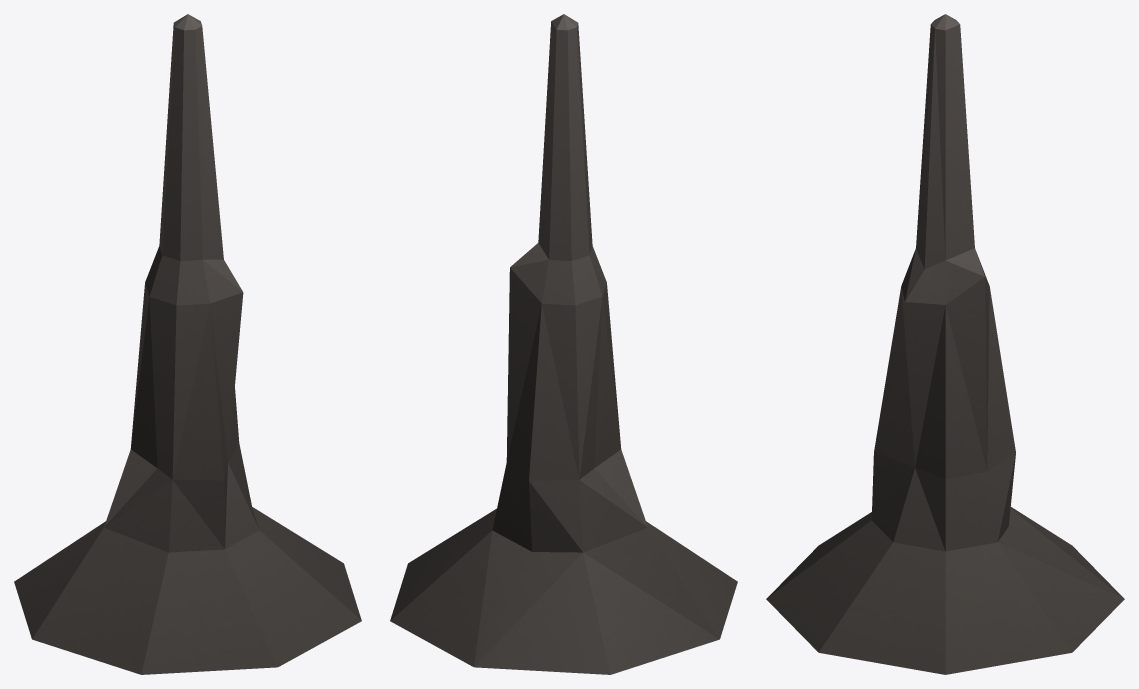
The model's file is Stal_6B.fbx.
3 renders of one model, left to right at view 1: azimuth 30°, elevation 25°; view 2: azimuth 150°, elevation 25°; view 3: azimuth 270°, elevation 25°, orthographic.
Parts seen in each view (by area): view 1: pCone11; view 2: pCone11; view 3: pCone11.
Part boxes in pixels (bbox=[...]): pCone11: bbox=[14, 14, 361, 674]; pCone11: bbox=[390, 14, 737, 674]; pCone11: bbox=[766, 14, 1124, 674].
Size of the model in its own units: 263 by 472 by 263.
1 material, 1 textured.
